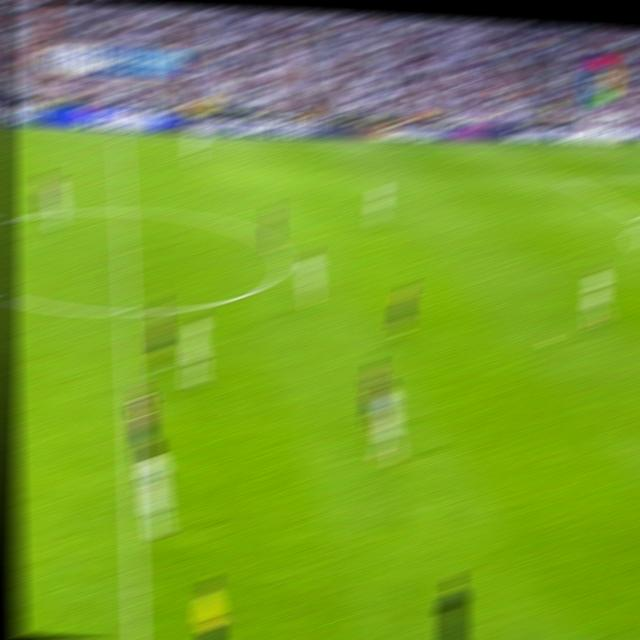halfcircle_bottom: (116, 297, 137, 324)
halfcircle_top: (113, 200, 132, 221)
midline_top_intersection: (112, 132, 127, 142)
top_arc_area_intersection: (635, 211, 640, 226)
